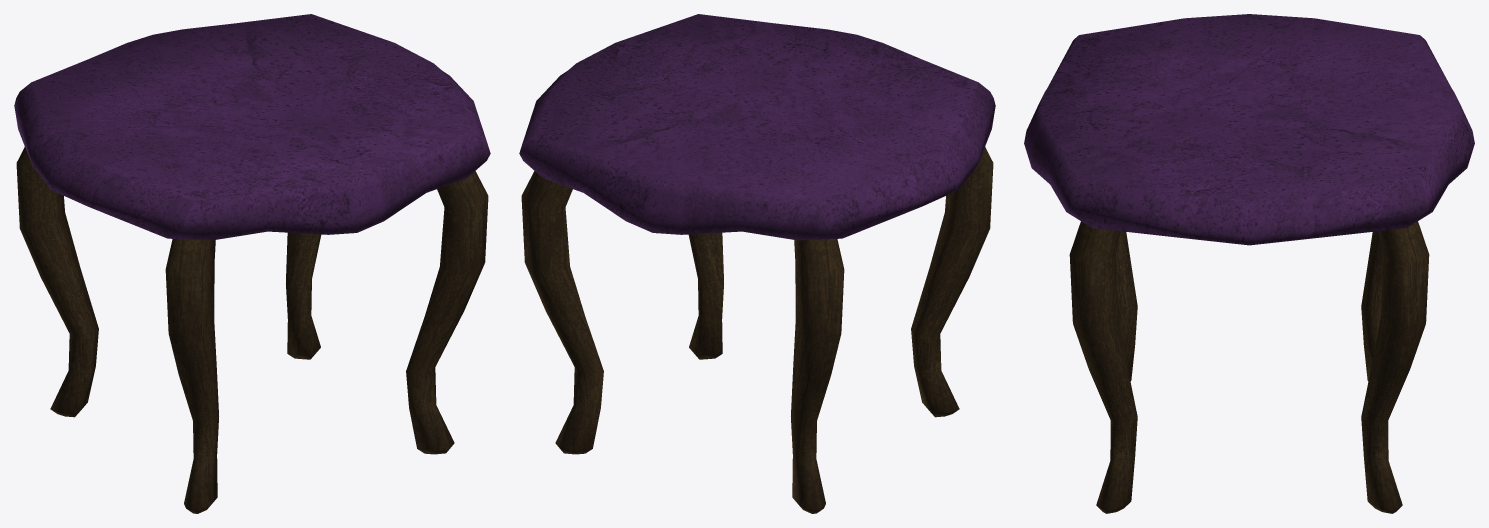
Rendered from Table - Square.fbx.
3 views of the same model, side by side, from view 1: azimuth 30°, elevation 25°; view 2: azimuth 150°, elevation 25°; view 3: azimuth 270°, elevation 25° (orthographic). The views are drawn at different scales.
Visible parts, largest first — view 1: Table - Square; view 2: Table - Square; view 3: Table - Square.
Boxes of the visible parts, bbox=[...] form: Table - Square: bbox=[14, 14, 490, 513]; Table - Square: bbox=[519, 14, 995, 513]; Table - Square: bbox=[1024, 14, 1474, 513].
Bounding box in the file's own units: 1.34 × 1.04 × 1.24.
